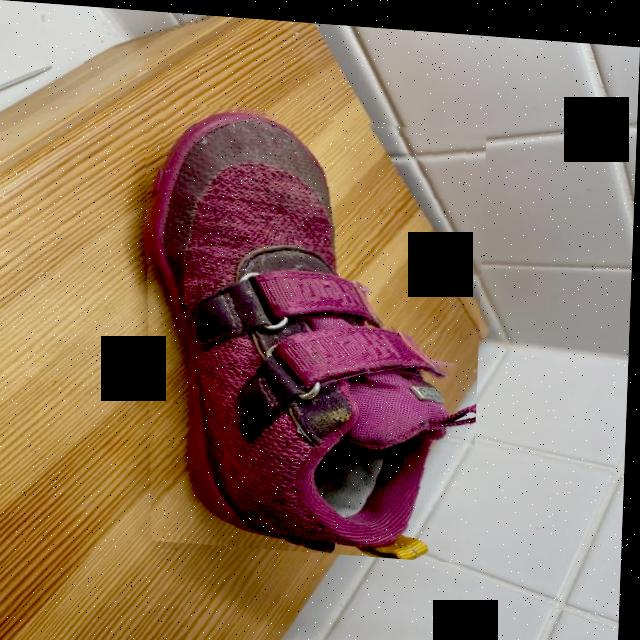shoe: (133, 98, 487, 557)
